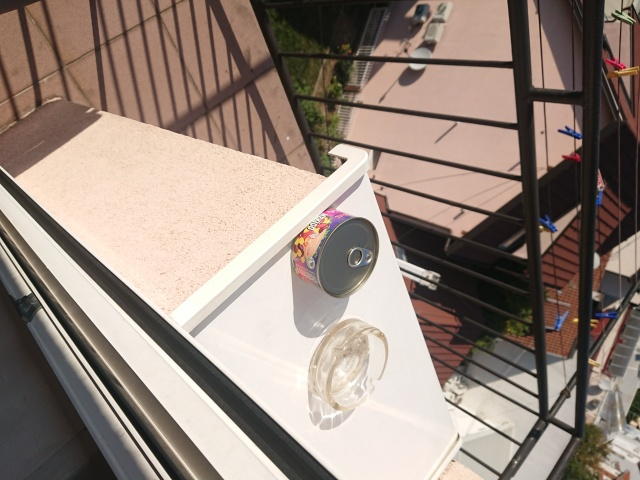Giana Tuna Salad Mexico 185g: (288, 201, 382, 301)
